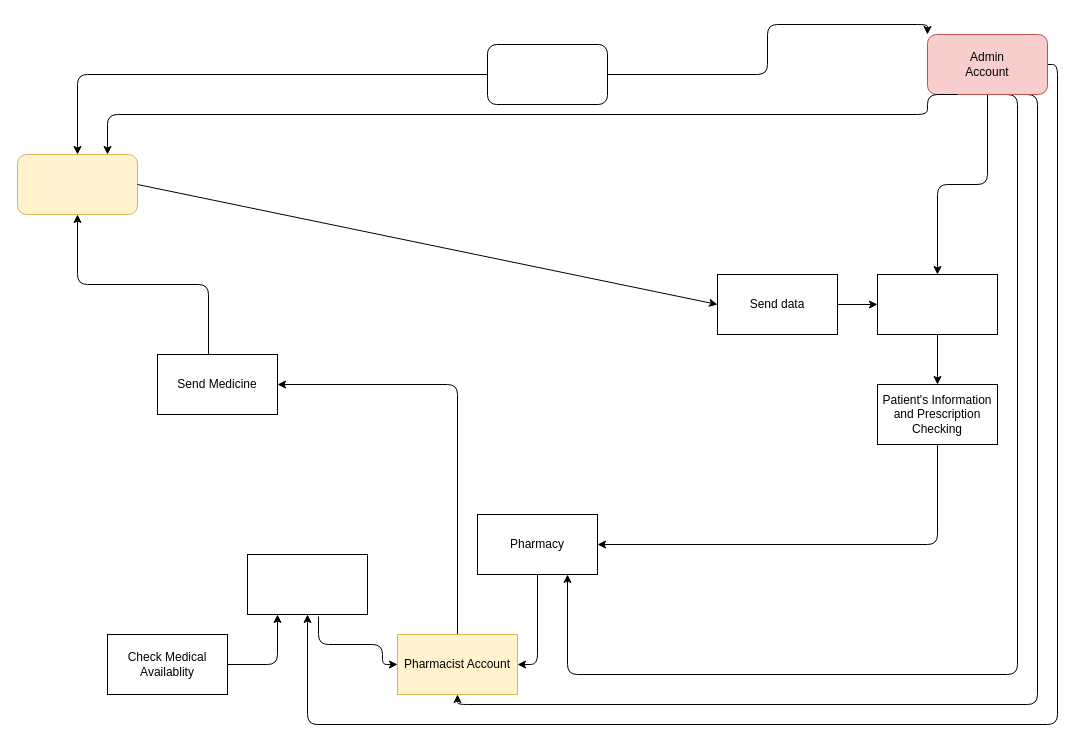
This 1083x750 diagram has some shape labels left out. The centre of each missing label's shape, as x and y in pixels:
"Login/SignUp" goes at pixel 547 74.
"Medical Stock" goes at pixel 307 584.
"Patient's Account" goes at pixel 77 184.
"Server" goes at pixel 937 304.
